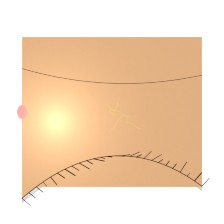corneal_ulcer: (84, 92, 149, 143)
